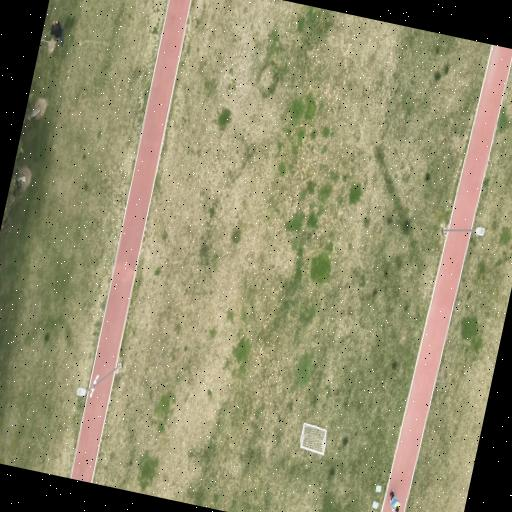person: (51, 21, 64, 46), (390, 490, 400, 511)
